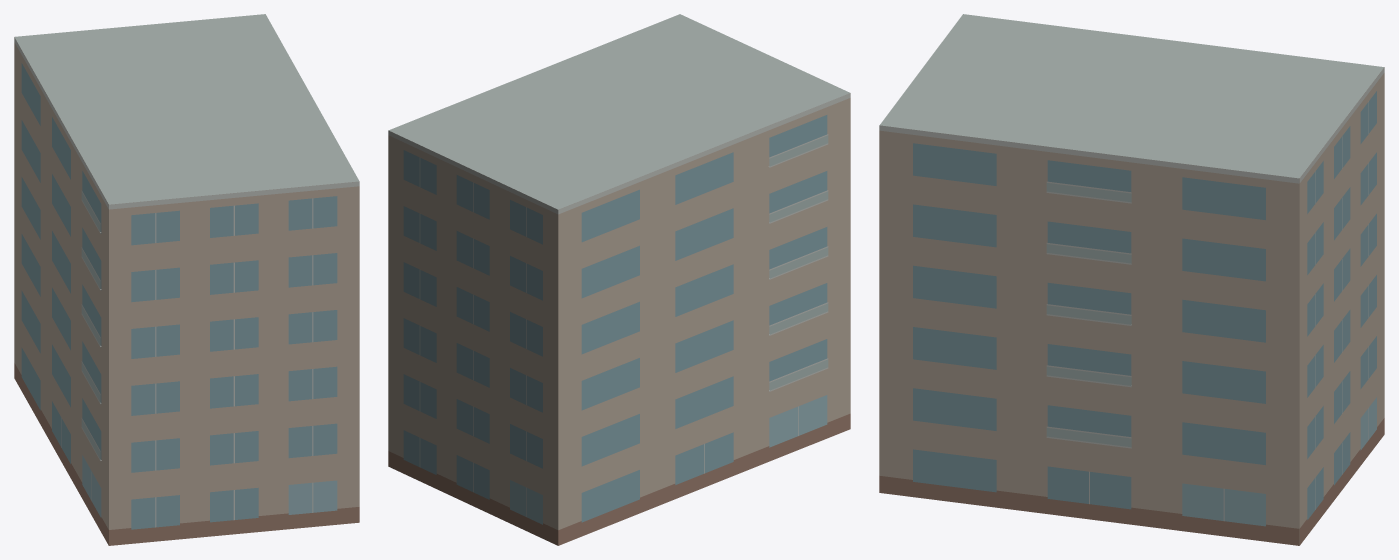
File: survey-upis-32876942.glb
3 renders of one model, left to right at view 1: azimuth 30°, elevation 25°; view 2: azimuth 150°, elevation 25°; view 3: azimuth 270°, elevation 25°, orthographic. The views are drawn at different scales.
Visible parts, largest first — view 1: survey-upis-32876942.tmp; view 2: survey-upis-32876942.tmp; view 3: survey-upis-32876942.tmp.
Boxes of the visible parts, bbox=[...] form: survey-upis-32876942.tmp: bbox=[14, 14, 359, 545]; survey-upis-32876942.tmp: bbox=[388, 14, 850, 545]; survey-upis-32876942.tmp: bbox=[879, 14, 1384, 545].
Bounding box in the file's own units: 16.42 × 17.1 × 21.31.
